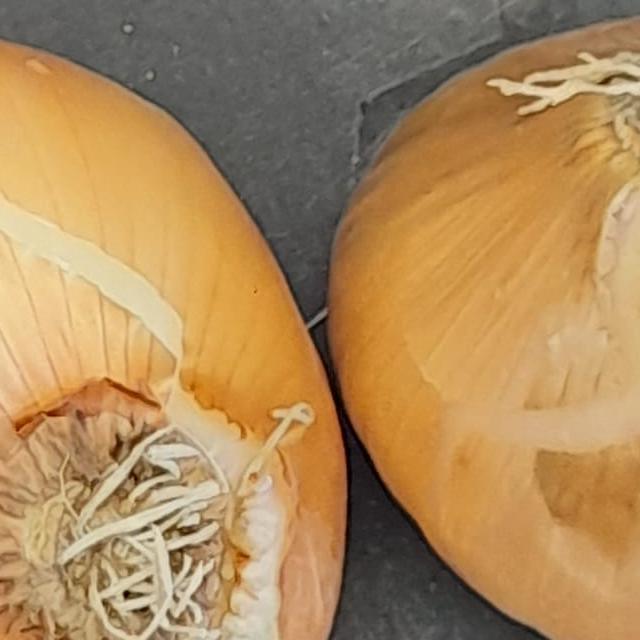onion: (0, 0, 376, 640), (340, 0, 640, 640)
